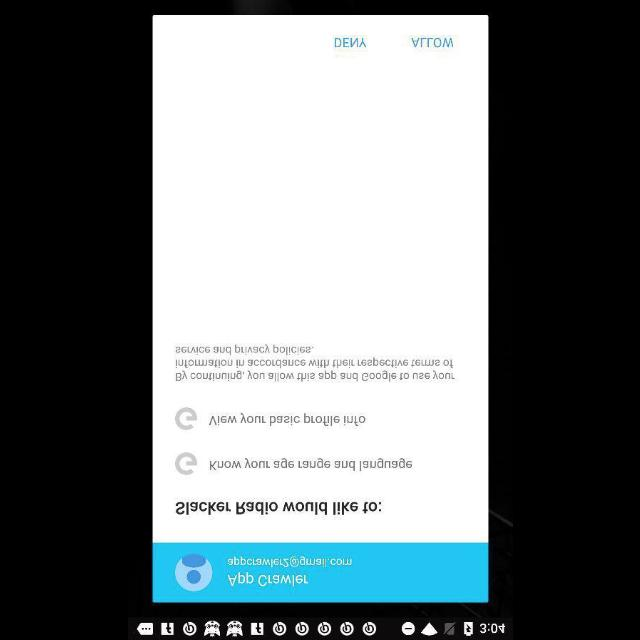icon: (174, 553, 212, 591)
panel: (152, 15, 488, 602)
text: (176, 344, 454, 380), (175, 501, 381, 515), (208, 457, 412, 471), (208, 412, 364, 426), (228, 556, 352, 568), (227, 571, 309, 587), (175, 406, 198, 429), (410, 36, 454, 48), (175, 452, 198, 474), (334, 37, 366, 47)
uppertaskbar: (128, 617, 512, 639)
